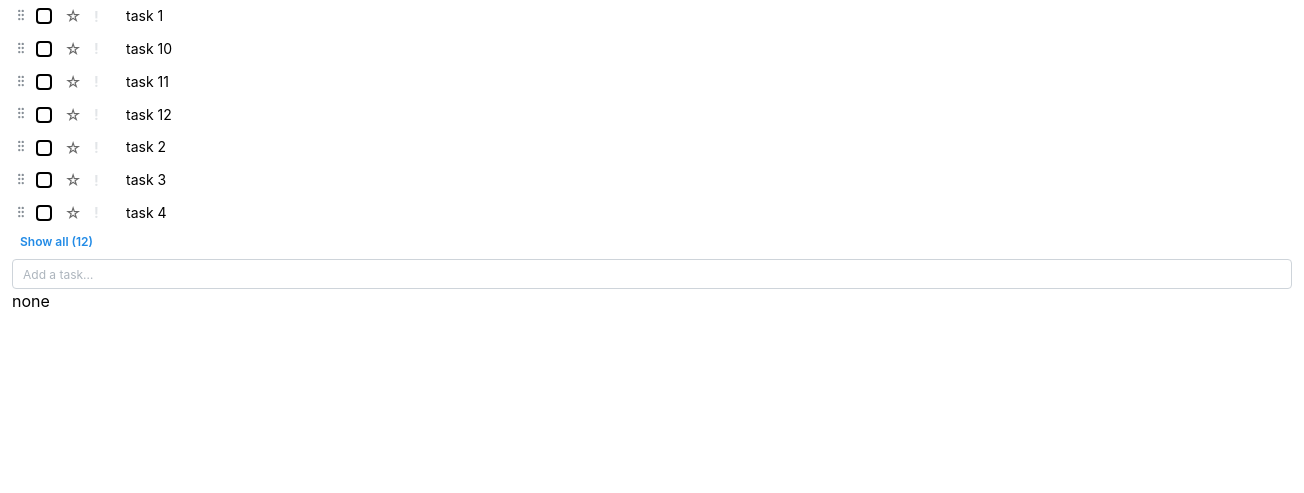
Scenario: TaskList expand footer › expanded from an overflowing list: Show less, and no cap
The width and height of the screenshot is (1304, 493).
Click the button "Show all (12)".
click(57, 242)  # box left=12, top=231, right=1292, bottom=253
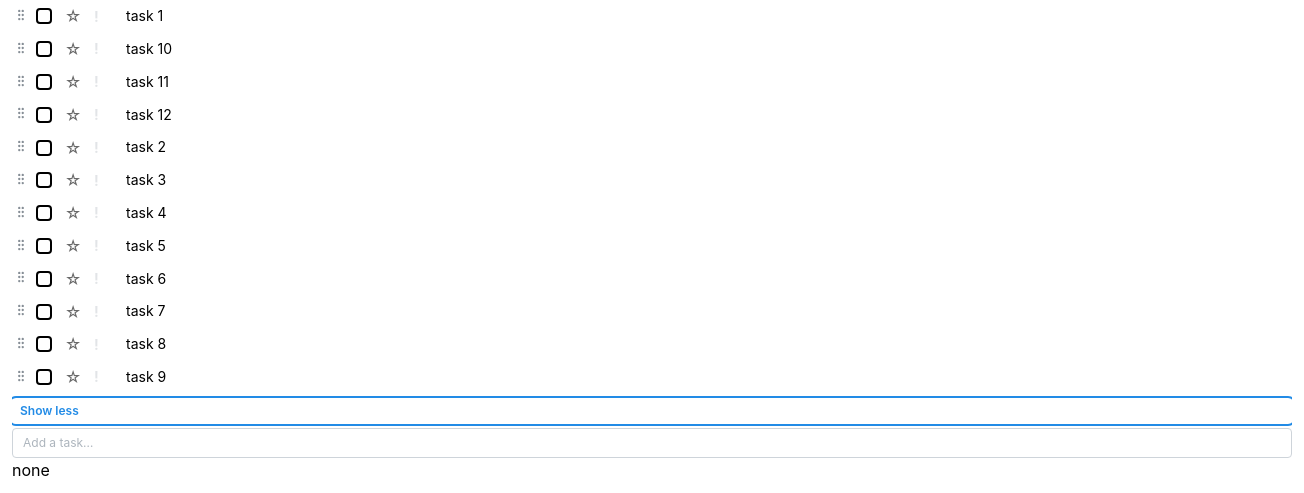
Check: the button "Show less" is shown, box left=12, top=400, right=1292, bottom=422
